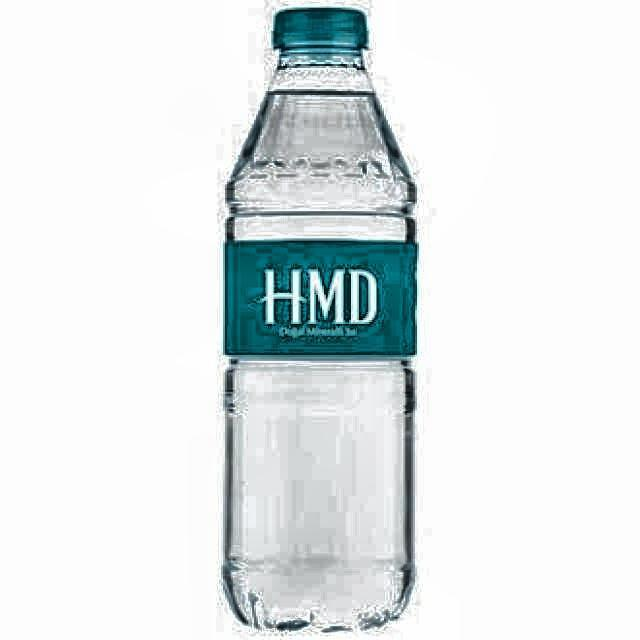plastic: (224, 5, 421, 632)
